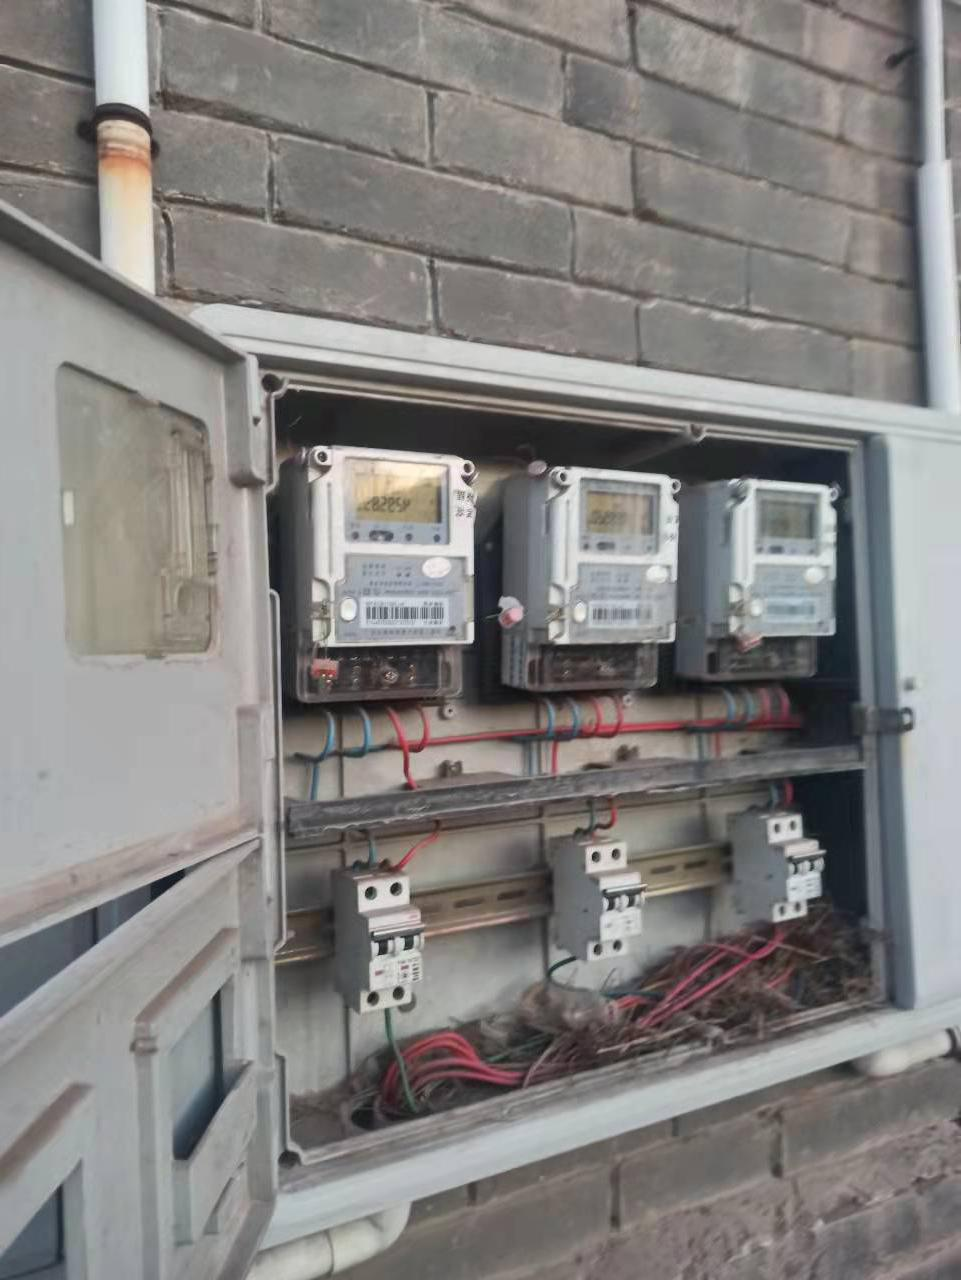digital: (313, 445, 475, 641), (550, 465, 675, 641), (739, 479, 836, 633)
